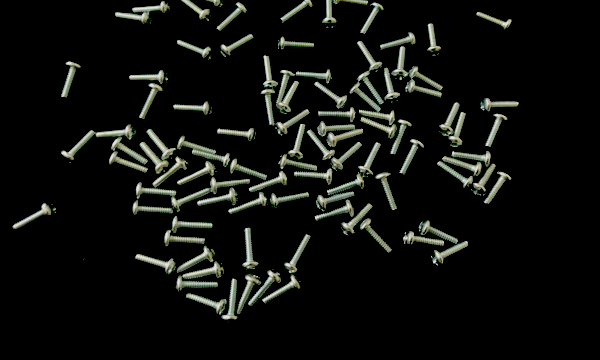shortscrew: (246, 269, 282, 309), (11, 201, 57, 232), (261, 275, 303, 306), (60, 129, 96, 165), (358, 218, 393, 255), (282, 234, 312, 277), (339, 203, 375, 237), (437, 161, 474, 192), (110, 137, 149, 166), (430, 240, 470, 268), (170, 187, 213, 213), (236, 273, 262, 316), (418, 219, 459, 246), (483, 172, 513, 208), (177, 247, 216, 274), (185, 293, 227, 318), (355, 71, 385, 106), (230, 192, 270, 218), (216, 2, 249, 33), (349, 83, 383, 113), (313, 81, 348, 110), (307, 129, 336, 163), (275, 109, 310, 137), (177, 135, 217, 159), (134, 252, 177, 274), (108, 152, 149, 175), (230, 158, 269, 182), (219, 34, 255, 60), (398, 140, 424, 176), (139, 83, 164, 120), (357, 142, 382, 179), (407, 66, 444, 91), (315, 200, 355, 223), (326, 174, 366, 197), (375, 172, 398, 212), (177, 39, 215, 63), (442, 156, 483, 178), (356, 41, 383, 74), (471, 163, 497, 197), (191, 148, 233, 169), (222, 279, 241, 325), (315, 191, 356, 212), (361, 117, 398, 140), (437, 103, 462, 137), (198, 188, 240, 208), (279, 0, 314, 24), (485, 113, 509, 148), (59, 62, 81, 100), (390, 120, 413, 156), (242, 228, 261, 271), (277, 81, 301, 115), (271, 191, 311, 211), (476, 12, 514, 33), (326, 128, 364, 149), (403, 230, 445, 249), (134, 182, 178, 200), (404, 80, 443, 100), (173, 100, 214, 119), (447, 112, 468, 149), (171, 216, 214, 234), (163, 230, 206, 248), (182, 261, 225, 279), (361, 3, 385, 35), (180, 0, 213, 23), (175, 276, 219, 293), (287, 124, 307, 161), (129, 69, 169, 87), (132, 201, 174, 218), (317, 121, 356, 139), (382, 68, 402, 103), (96, 124, 137, 141), (113, 11, 154, 28), (216, 127, 257, 144), (210, 177, 251, 194), (480, 96, 520, 113), (451, 151, 491, 168), (380, 32, 417, 50), (260, 89, 277, 127), (277, 70, 296, 104), (132, 0, 172, 16), (359, 109, 396, 126), (262, 56, 280, 90), (295, 69, 333, 85), (426, 23, 443, 58), (317, 107, 356, 122), (392, 47, 409, 81), (277, 37, 315, 50), (322, 0, 337, 29), (189, 0, 225, 9), (333, 0, 370, 8)
